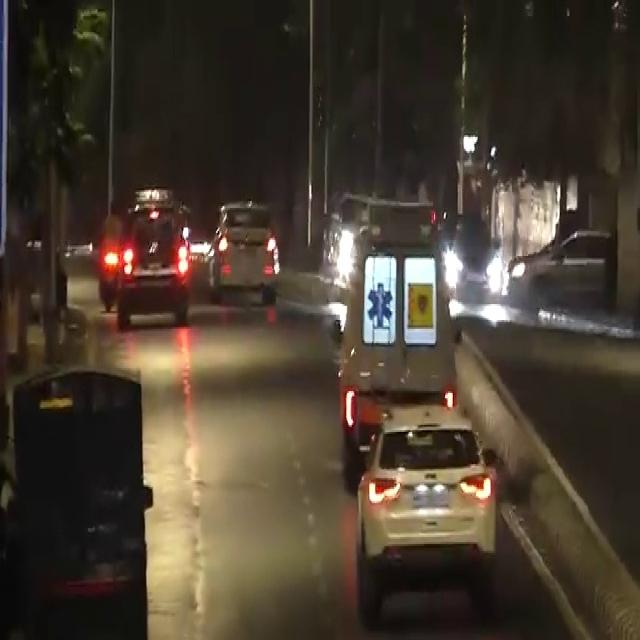ambulance: (326, 196, 465, 386)
